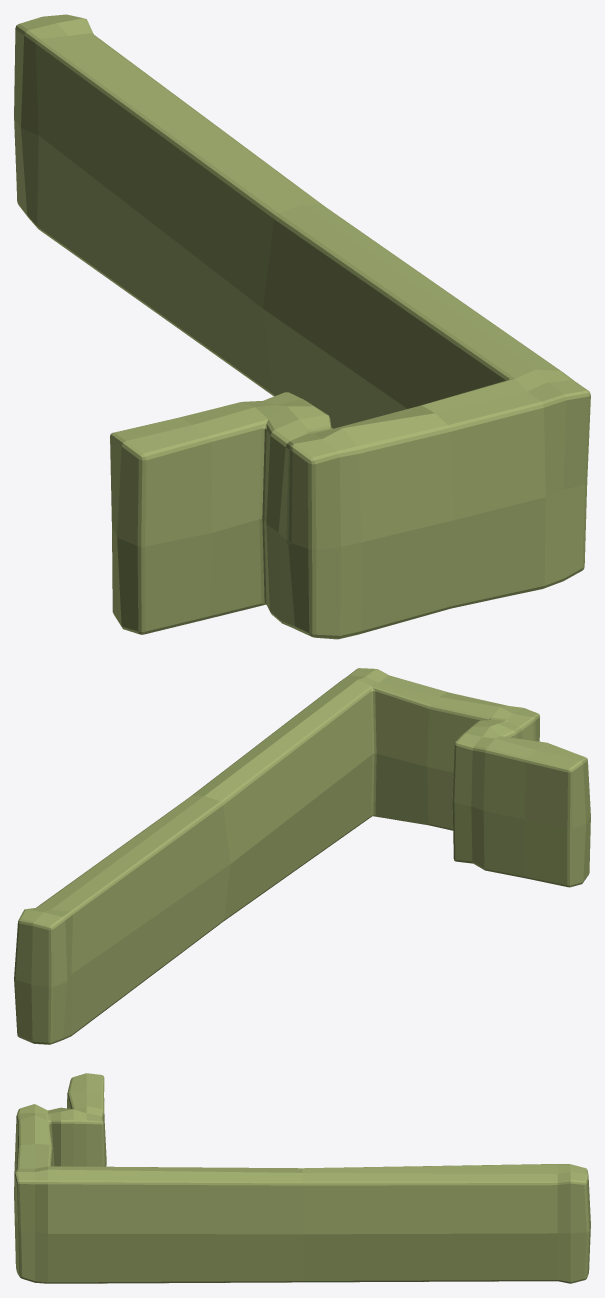
File: Wall piece 3.fbx
3 renders of one model, top to bottom at view 1: azimuth 30°, elevation 25°; view 2: azimuth 150°, elevation 25°; view 3: azimuth 270°, elevation 25°, orthographic. The views are drawn at different scales.
Parts seen in each view (by area): view 1: wall piece 3O; view 2: wall piece 3O; view 3: wall piece 3O.
Boxes of the visible parts, <box> form: wall piece 3O: <box>14,14,590,639</box>; wall piece 3O: <box>14,668,590,1044</box>; wall piece 3O: <box>14,1073,590,1283</box>.
Size of the model in its own units: 1028 by 2239 by 473.
